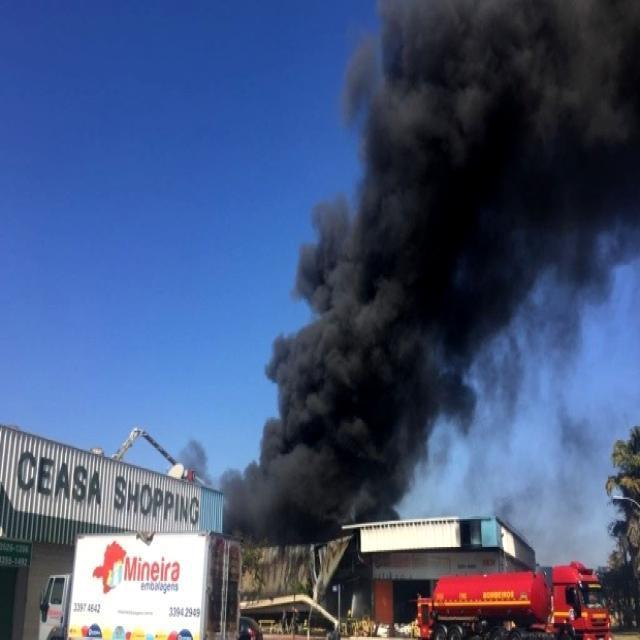Smoke: (240, 0, 640, 541)
